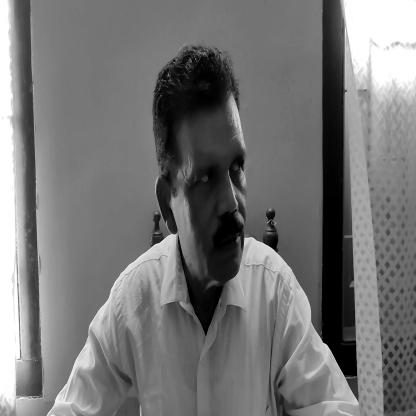Distracted: (156, 56, 250, 282)
